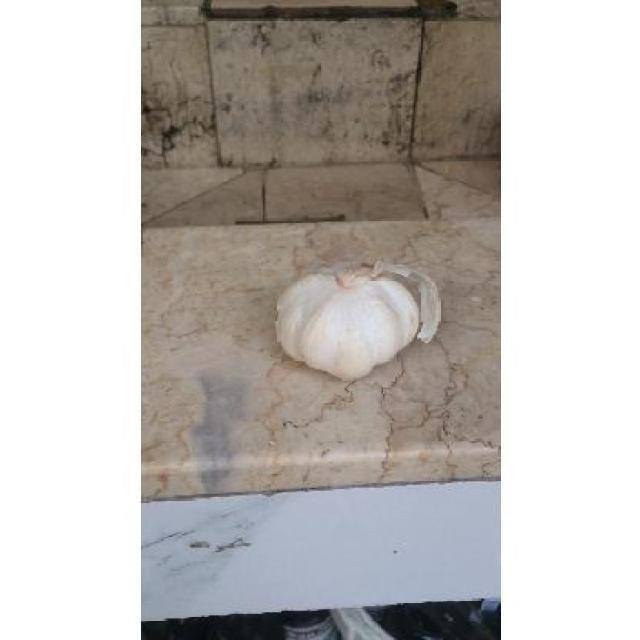garlic: (276, 262, 441, 380)
